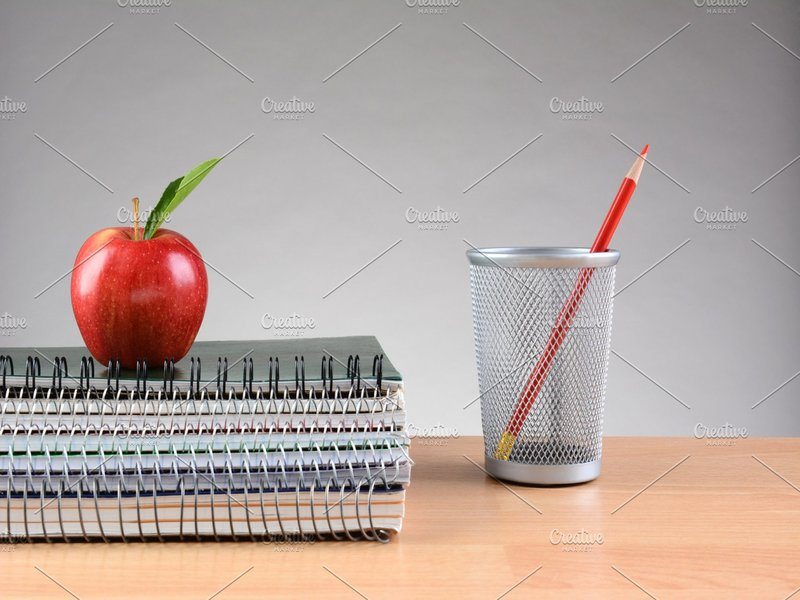apple: (64, 211, 216, 370)
